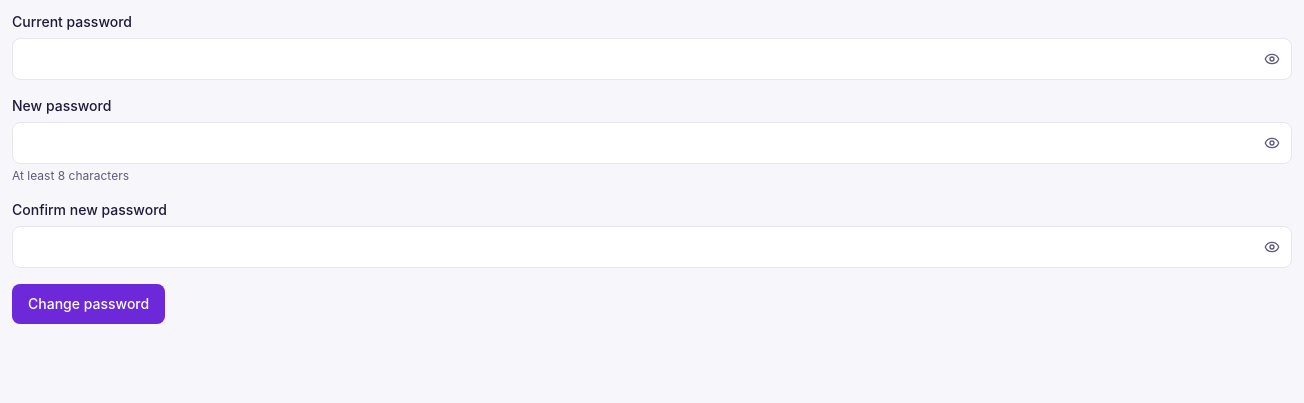
it: ChangePasswordForm › refuses to change the password when the current password is wrong
This screenshot has width=1304, height=403.
Type "wrongpass" into the password field labelled "Current password". click: (652, 59)
box: [12,38,1292,80]
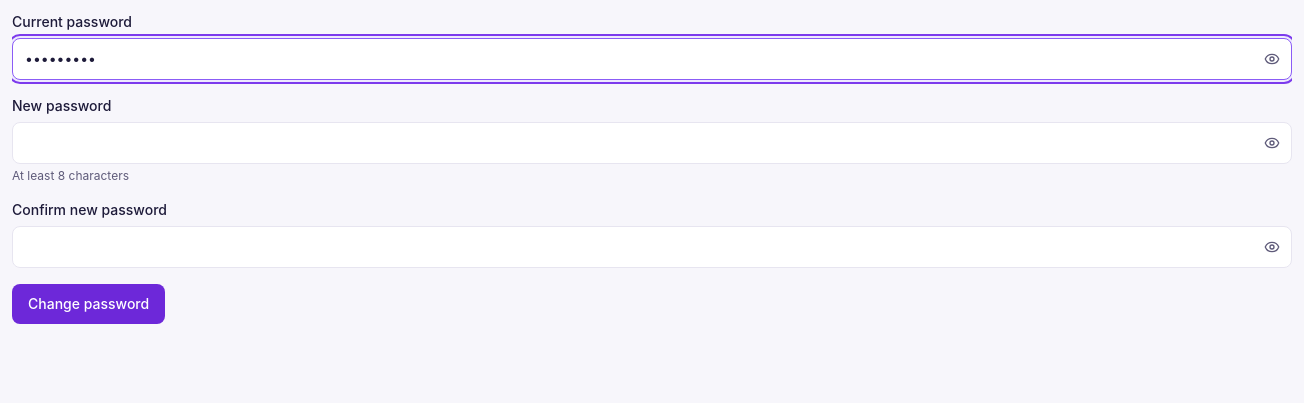
Type "newpass123" into the password field labelled "New password At least 8 characters". click: (652, 143)
box: [12,122,1292,164]
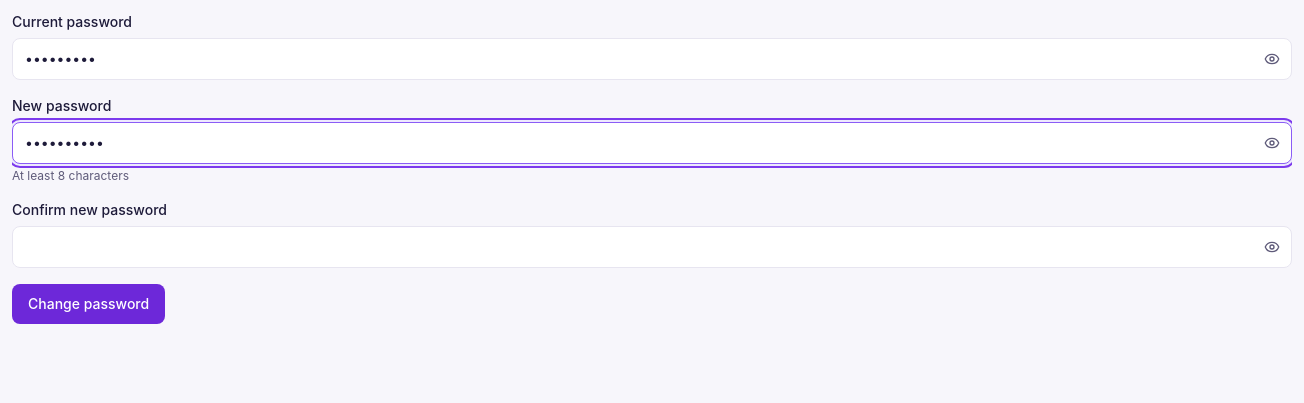
Type "newpass123" into the password field labelled "Confirm new password". click: (652, 247)
box: [12,226,1292,268]
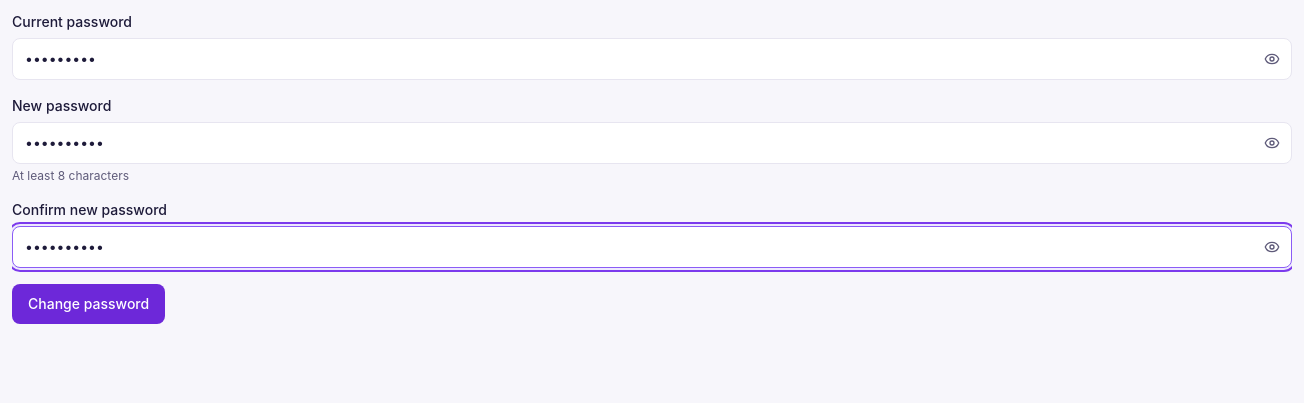
Click the button "Change password". click: (89, 304)
box: [12,284,165,324]
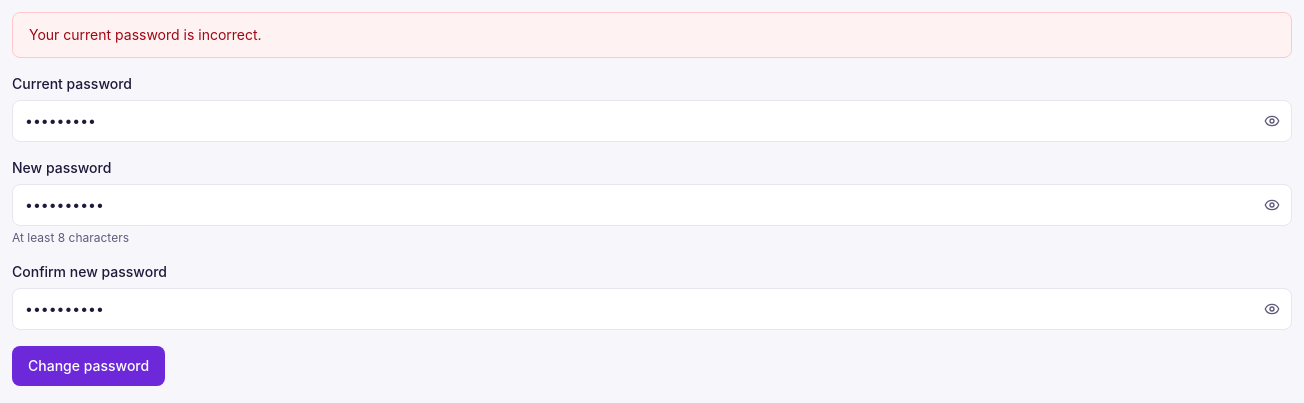
expect the message shows "current password is incorrect": met, box [29,26,262,43]
